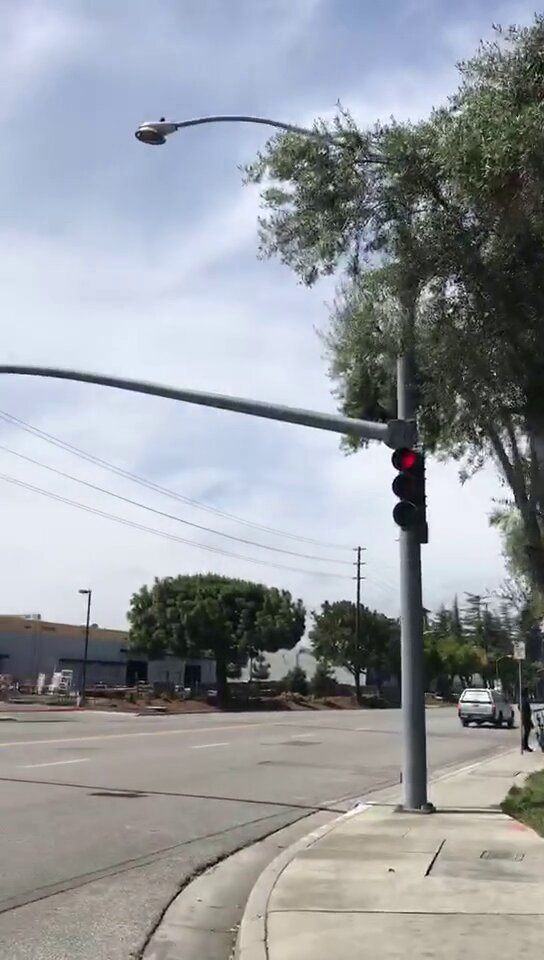red_light: (392, 449, 423, 530)
